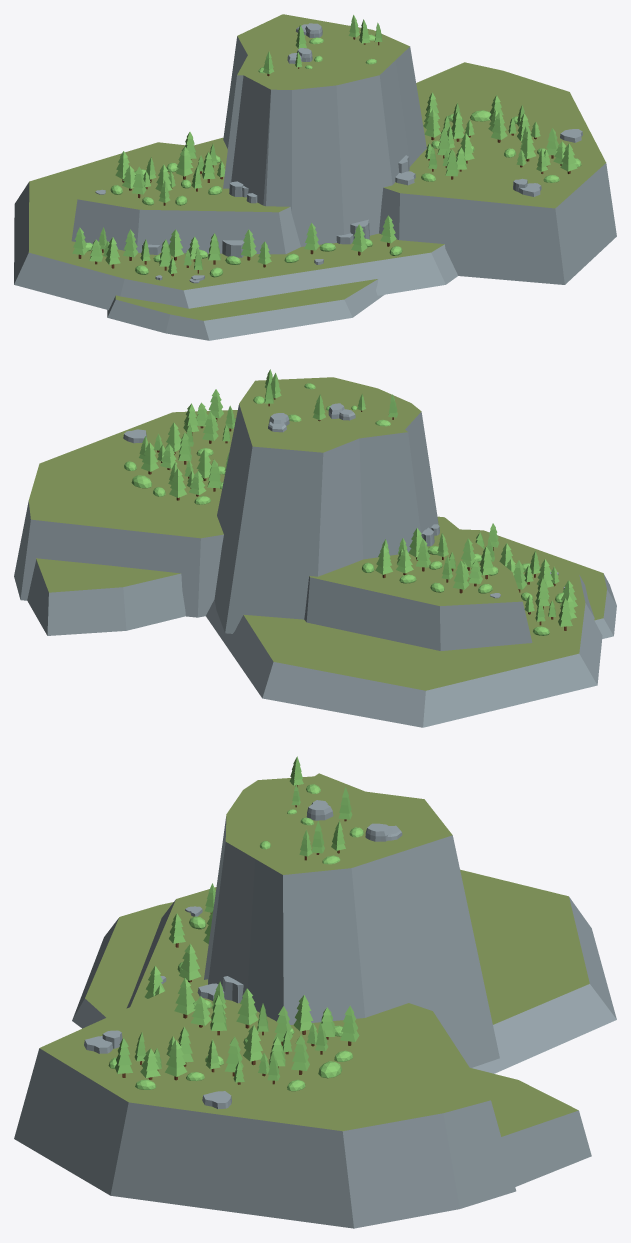
Rendered from Mountain3.fbx.
The picture shows the model from 3 angles, top to bottom: view 1: azimuth 30°, elevation 25°; view 2: azimuth 150°, elevation 25°; view 3: azimuth 270°, elevation 25°; orthographic projection. The views are drawn at different scales.
Visible parts, largest first — view 1: Cube.010; view 2: Cube.010; view 3: Cube.010.
Part boxes in pixels (box(x1,y1,x2,y2)): Cube.010: box(14, 14, 616, 340); Cube.010: box(14, 369, 616, 727); Cube.010: box(14, 756, 616, 1228).
Size of the model in its own units: 11022 by 3886 by 7947.
